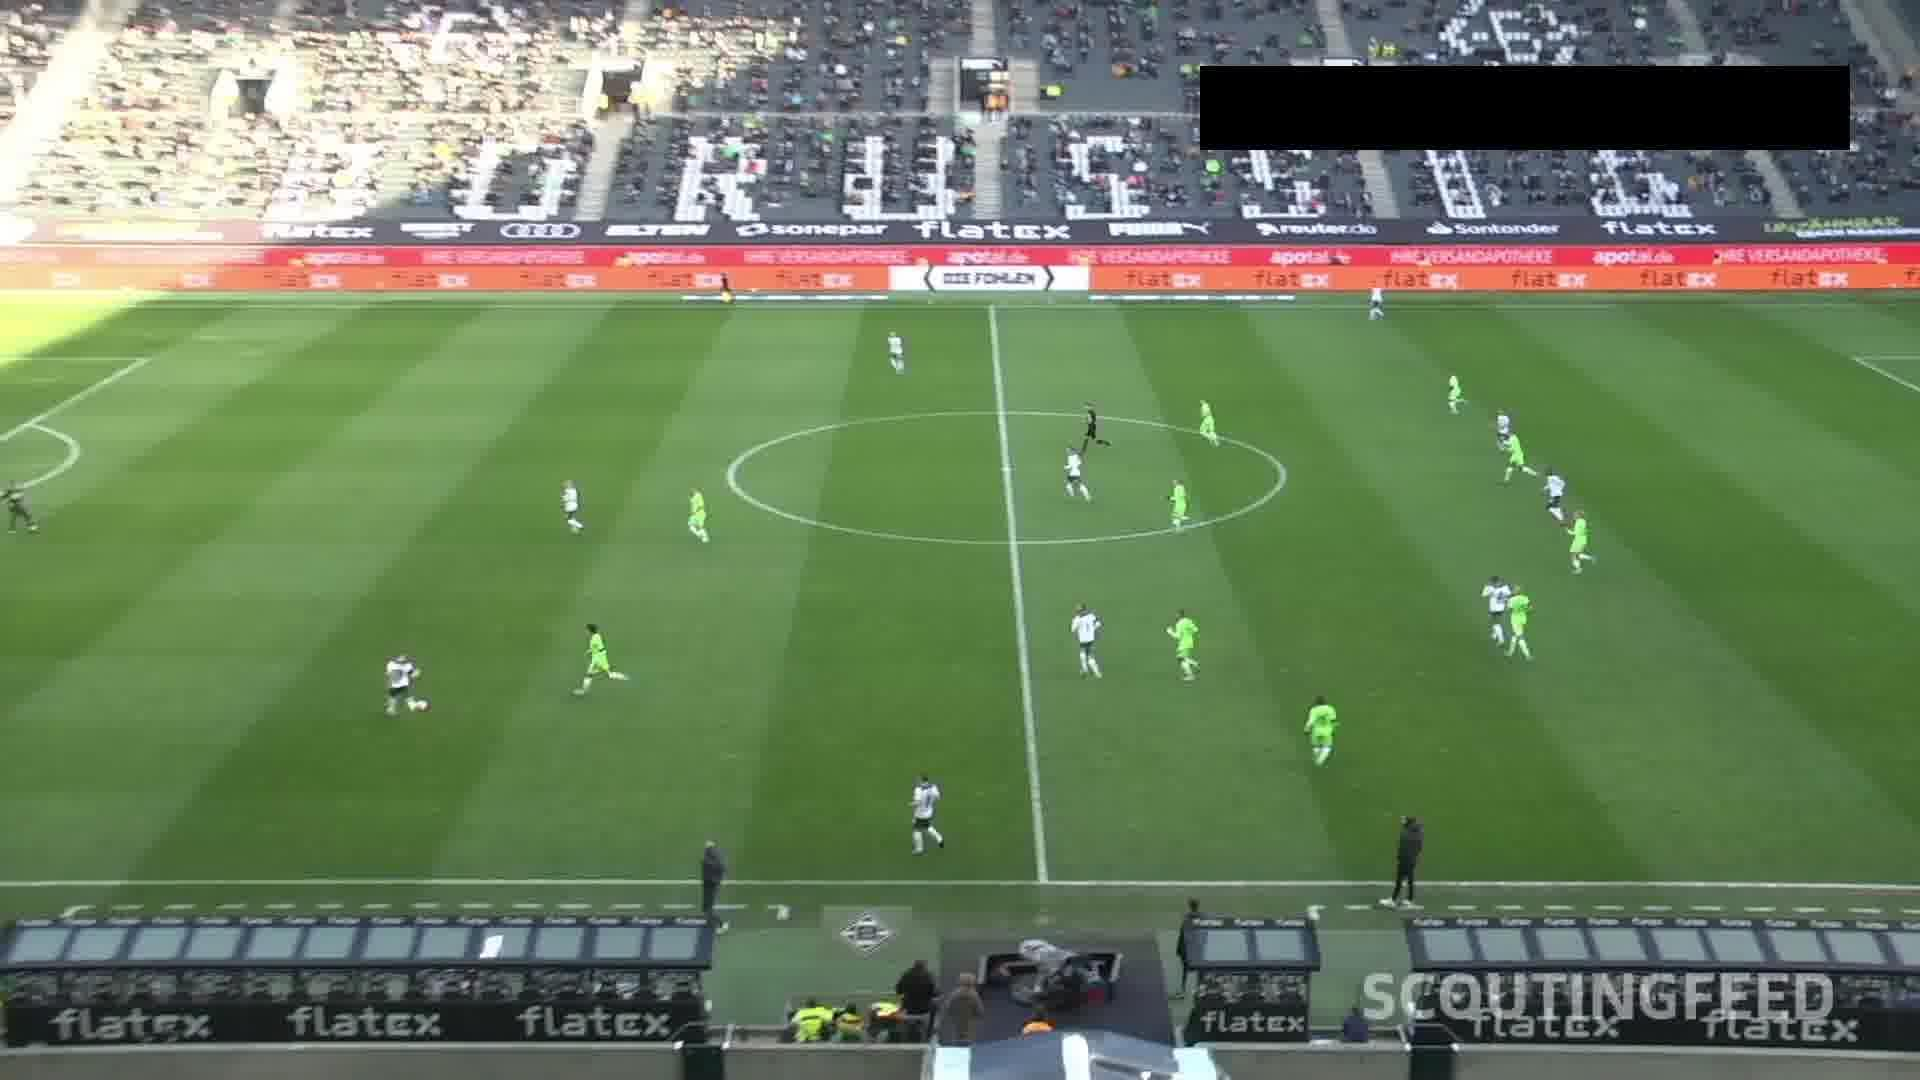football: (418, 698, 430, 711)
